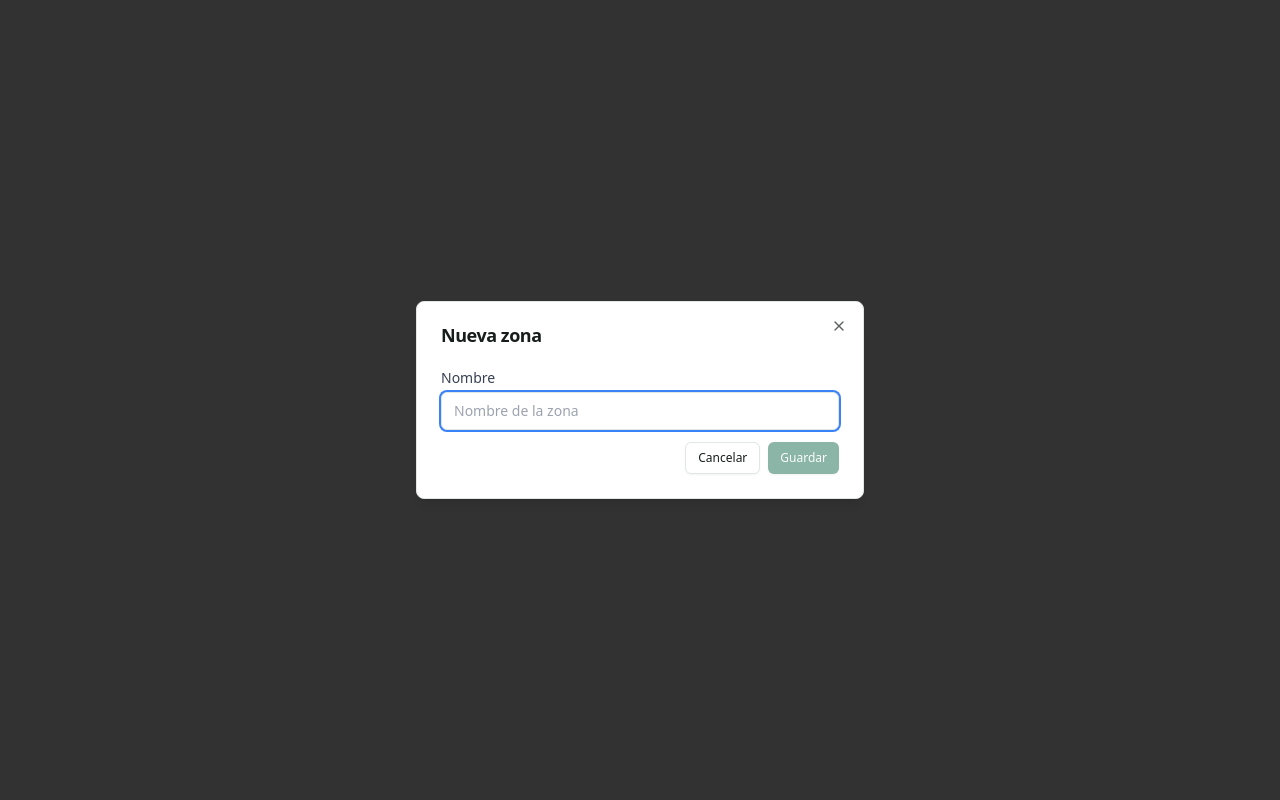
it: ZonaModal — alta › muestra el error si onGuardar rechaza
The image size is (1280, 800).
Type "X" into the field with placeholder "Nombre de la zona" at (640, 411), box x1=441 y1=392 x2=839 y2=430
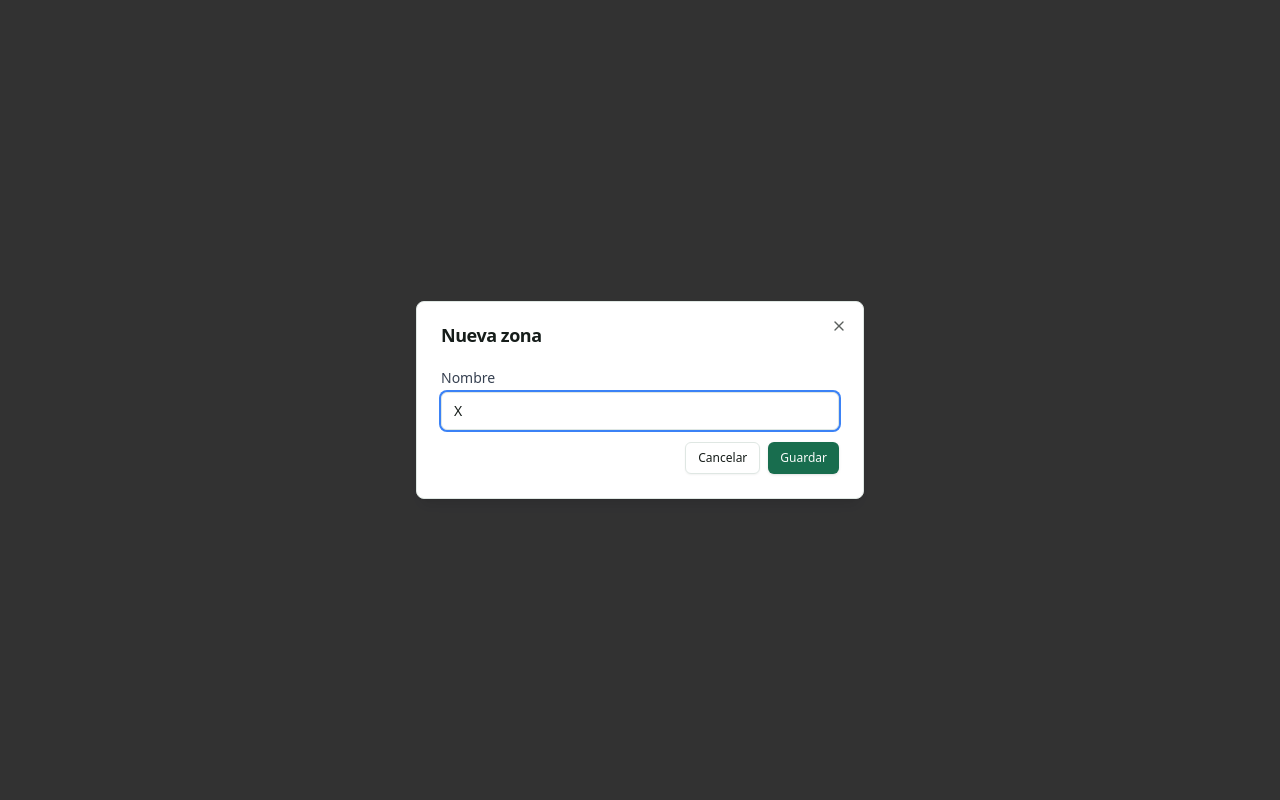
Click the button "Guardar" at (804, 458), box x1=768 y1=442 x2=839 y2=474
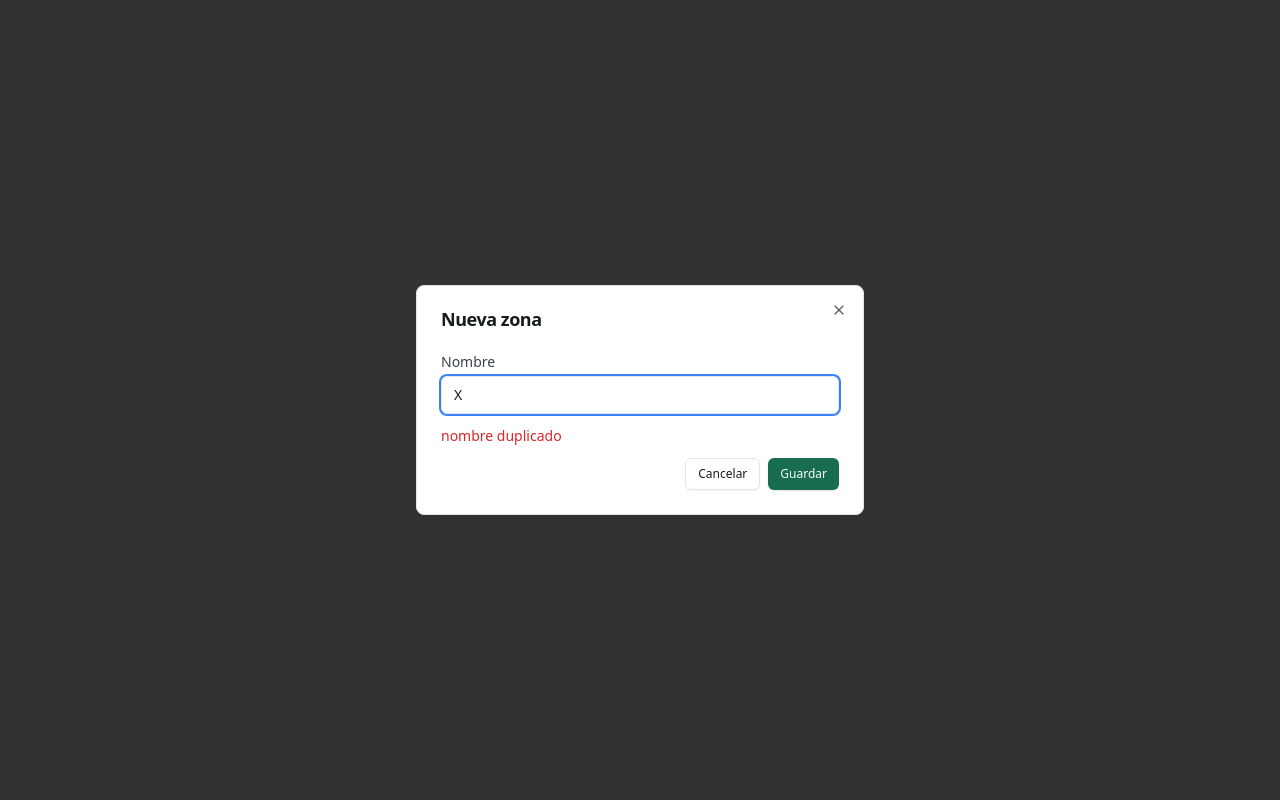
Expected: the text "nombre duplicado" is shown, x1=441 y1=426 x2=562 y2=445
